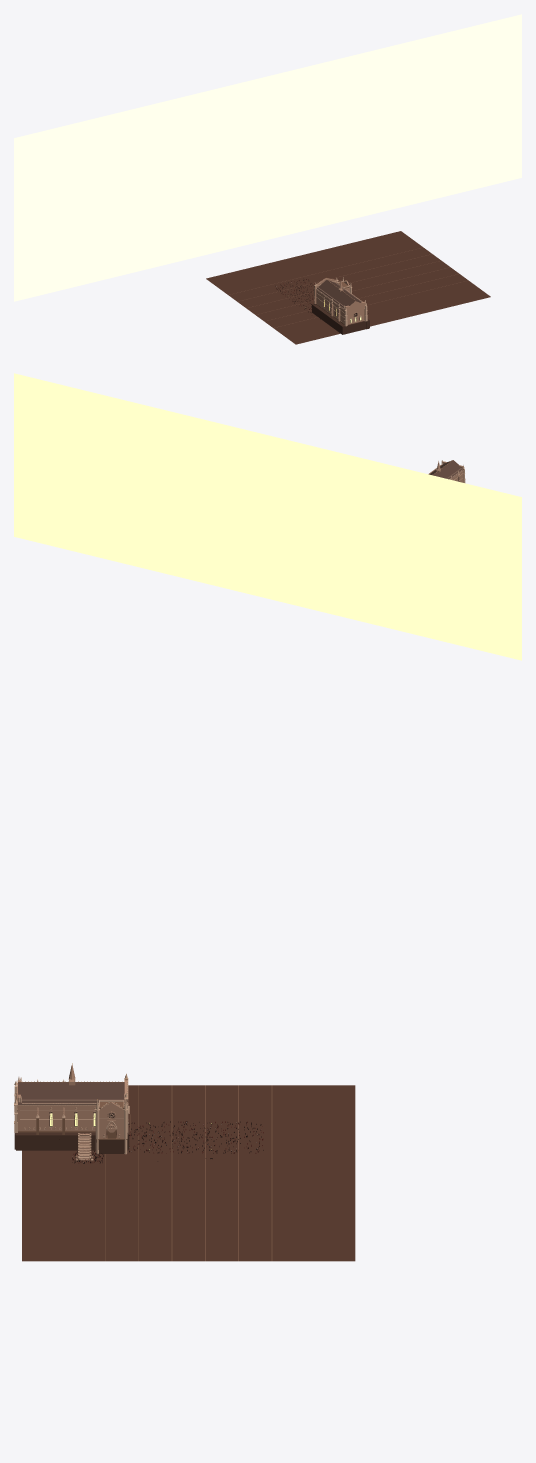
The model's file is gothic_aqueduct.glb.
3 views of the same model, one above another, from view 1: azimuth 30°, elevation 25°; view 2: azimuth 150°, elevation 25°; view 3: azimuth 270°, elevation 25° (orthographic). The views are drawn at different scales.
Parts seen in each view (by area): view 1: SKY_backdrop, M_ground, M_stone_mid, M_stone_dark, M_stone_deep, M_roof, M_stone_light; view 2: SKY_backdrop, M_roof; view 3: M_ground, M_stone_mid, M_roof, M_stone_dark, M_stone_light, M_stone_deep.
Boxes of the visible parts, x1,y1,x2,y2 form: SKY_backdrop: [14, 14, 521, 301]; M_ground: [206, 231, 490, 344]; M_stone_mid: [314, 278, 365, 324]; M_stone_dark: [229, 247, 467, 327]; M_stone_deep: [312, 304, 369, 334]; M_roof: [316, 280, 361, 309]; M_stone_light: [313, 277, 367, 326]; SKY_backdrop: [14, 373, 521, 660]; M_roof: [429, 460, 463, 479]; M_ground: [22, 1085, 355, 1261]; M_stone_mid: [16, 1065, 128, 1160]; M_roof: [18, 1082, 124, 1104]; M_stone_dark: [16, 1082, 272, 1261]; M_stone_light: [14, 1073, 129, 1160]; M_stone_deep: [14, 1132, 129, 1153].
Bounding box in the file's own units: 1040 × 320 × 488.
